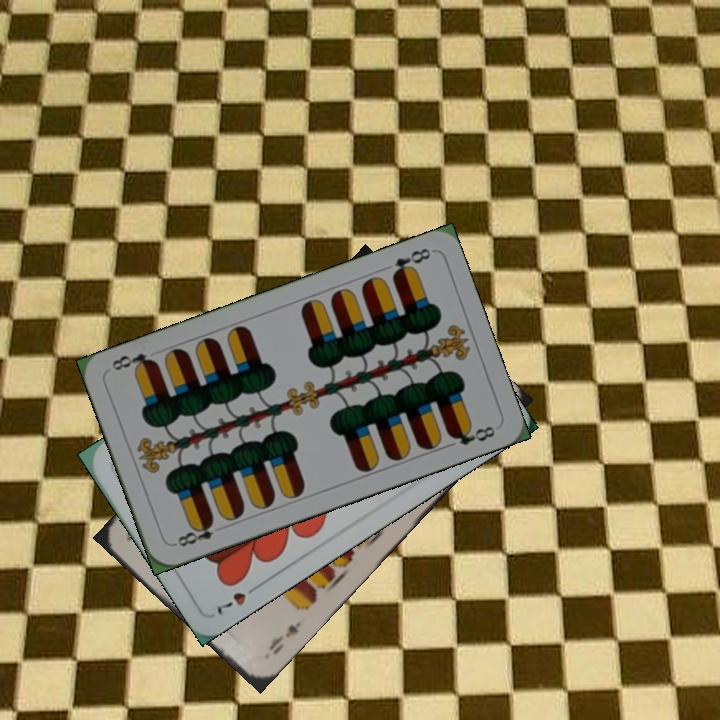E8: (169, 516, 227, 550), (388, 244, 434, 281)
E9: (264, 618, 304, 658)
H7: (212, 579, 263, 618)
